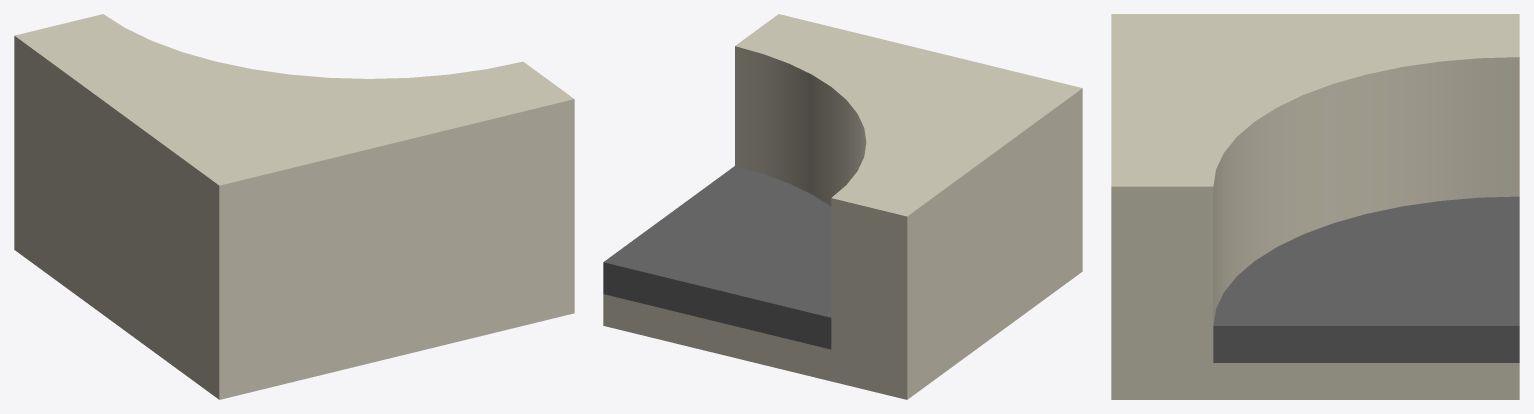
The model's file is roadTile_082.fbx.
3 views of the same model, side by side, from view 1: azimuth 30°, elevation 25°; view 2: azimuth 150°, elevation 25°; view 3: azimuth 270°, elevation 25° (orthographic). The views are drawn at different scales.
Visible parts, largest first — view 1: roadTile_082; view 2: roadTile_082; view 3: roadTile_082.
Boxes of the visible parts, box(x1,y1,x2,y2) form: roadTile_082: box(14, 14, 574, 399); roadTile_082: box(603, 14, 1082, 399); roadTile_082: box(1111, 14, 1519, 399).
Bounding box in the file's own units: 118 × 68.11 × 118.
